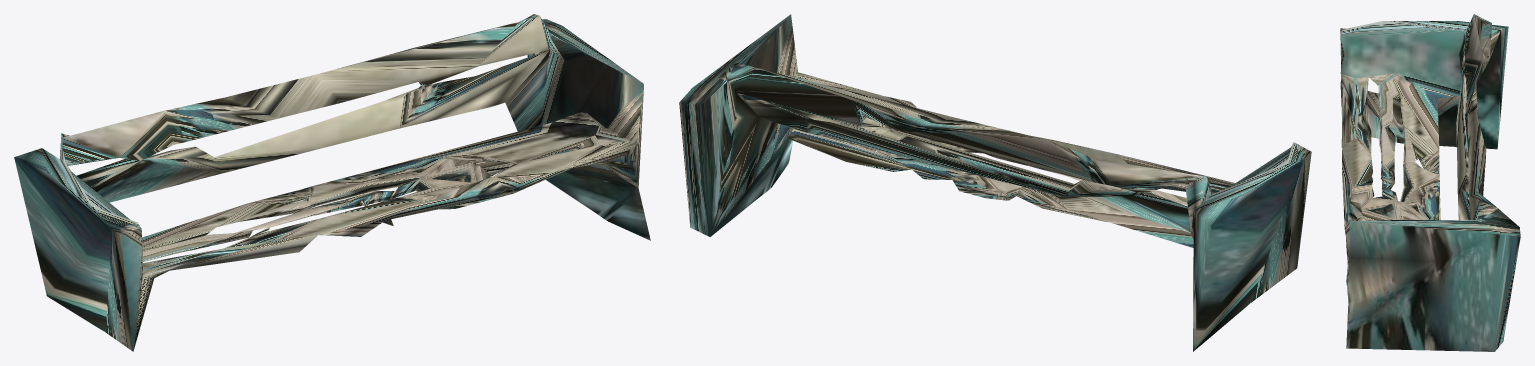
Rendered from bench_far.glb.
3 views of the same model, side by side, from view 1: azimuth 30°, elevation 25°; view 2: azimuth 150°, elevation 25°; view 3: azimuth 270°, elevation 25° (orthographic). The views are drawn at different scales.
Visible parts, largest first — view 1: Bench; view 2: Bench; view 3: Bench.
Boxes of the visible parts, <box> form: Bench: <box>14,14,650,351</box>; Bench: <box>679,14,1311,351</box>; Bench: <box>1340,14,1520,351</box>.
Size of the model in its own units: 2.46 by 0.742 by 0.8828.
Materials: 1 (1 with a texture image).
